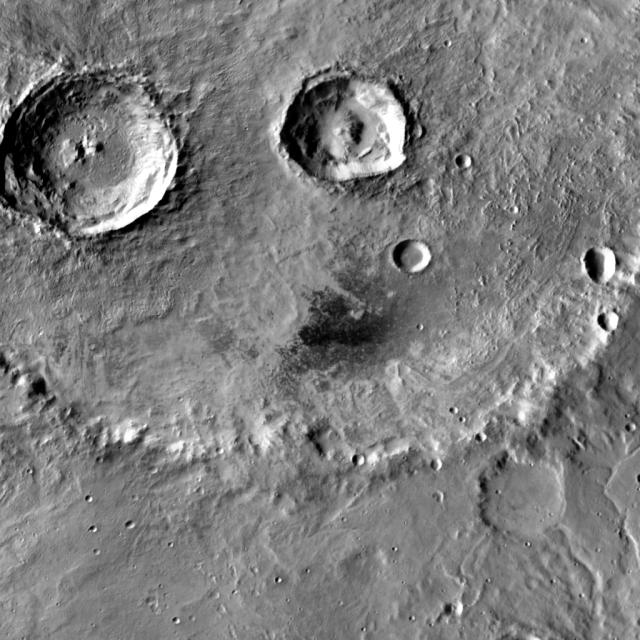crater: (0, 0, 640, 467), (0, 75, 180, 240), (287, 74, 411, 187), (481, 458, 573, 541), (396, 242, 434, 276), (588, 250, 624, 284), (603, 313, 626, 334), (446, 601, 469, 621), (459, 157, 476, 172), (466, 593, 482, 608), (441, 616, 454, 626), (358, 459, 370, 469), (481, 434, 492, 444), (436, 463, 447, 473), (630, 424, 640, 434), (214, 594, 224, 602), (149, 600, 158, 608), (449, 606, 458, 614), (131, 526, 139, 534), (222, 608, 230, 616), (270, 634, 280, 640), (147, 462, 154, 470), (82, 492, 89, 500), (455, 408, 462, 416), (256, 592, 264, 599), (177, 621, 184, 628), (248, 563, 256, 569), (220, 452, 228, 458), (441, 36, 448, 42), (414, 318, 421, 324), (191, 562, 198, 568), (194, 484, 201, 490)
